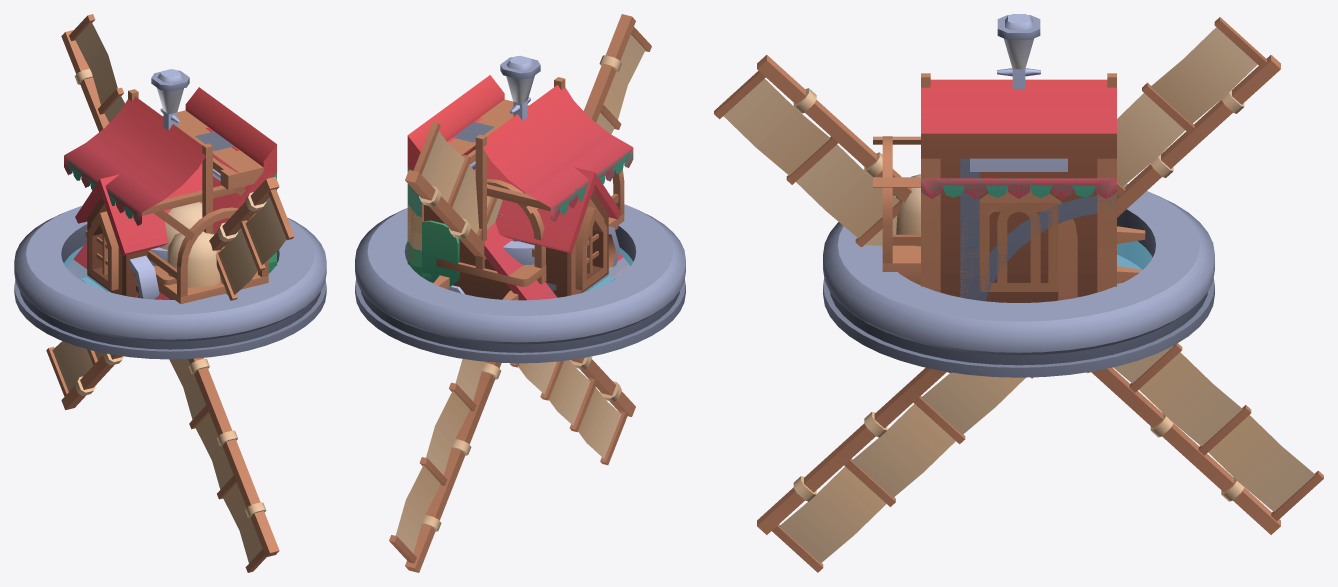
File: town.glb
The picture shows the model from 3 angles, left to right: view 1: azimuth 30°, elevation 25°; view 2: azimuth 150°, elevation 25°; view 3: azimuth 270°, elevation 25°; orthographic projection. The views are drawn at different scales.
Visible parts, largest first — view 1: fountain-round-detail, windmill, stall-red, roof-high-window, cart-high, roof-high, overhang, lantern, Group (×2), cart, stall-green, (%ignore); view 2: fountain-round-detail, windmill, stall-red, roof-high-window, roof-high, hedge-large, lantern, cart-high, overhang, stall-green, cart, (%ignore); view 3: windmill, fountain-round-detail, roof-high, stall-red, wall, cart-high, wall-arch, wall-arch-top, wall-wood-window-shutters, wall-door, stall-green, wall-window-round (+5 smaller).
Part boxes in pixels (bbox=[...]): fountain-round-detail: bbox=[14, 205, 326, 359]; windmill: bbox=[46, 14, 294, 572]; stall-red: bbox=[64, 89, 245, 286]; roof-high-window: bbox=[68, 162, 274, 299]; cart-high: bbox=[85, 202, 268, 303]; roof-high: bbox=[67, 87, 276, 299]; overhang: bbox=[162, 110, 263, 195]; lantern: bbox=[151, 69, 189, 130]; Group (×2): bbox=[129, 255, 159, 299]; cart: bbox=[85, 230, 261, 303]; stall-green: bbox=[65, 157, 141, 224]; (%ignore): bbox=[64, 246, 110, 292]; fountain-round-detail: bbox=[355, 204, 685, 363]; windmill: bbox=[389, 14, 651, 572]; stall-red: bbox=[436, 77, 633, 286]; roof-high-window: bbox=[407, 155, 628, 299]; roof-high: bbox=[407, 75, 629, 300]; hedge-large: bbox=[422, 220, 464, 294]; lantern: bbox=[500, 55, 540, 120]; cart-high: bbox=[439, 169, 624, 300]; overhang: bbox=[447, 99, 528, 164]; stall-green: bbox=[550, 148, 633, 220]; cart: bbox=[433, 183, 624, 300]; (%ignore): bbox=[584, 248, 632, 291]; windmill: bbox=[714, 17, 1323, 572]; fountain-round-detail: bbox=[823, 183, 1214, 377]; roof-high: bbox=[921, 133, 1116, 302]; stall-red: bbox=[921, 73, 1116, 198]; wall: bbox=[921, 158, 1116, 292]; cart-high: bbox=[873, 136, 1145, 282]; wall-arch: bbox=[921, 158, 979, 299]; wall-arch-top: bbox=[967, 194, 1116, 301]; wall-wood-window-shutters: bbox=[979, 203, 1058, 291]; wall-door: bbox=[960, 189, 1077, 300]; stall-green: bbox=[921, 178, 1116, 197]; wall-window-round: bbox=[997, 203, 1040, 291].
Bounding box in the file's own units: 2 × 3.11 × 3.11.
2 materials, 1 textured.
